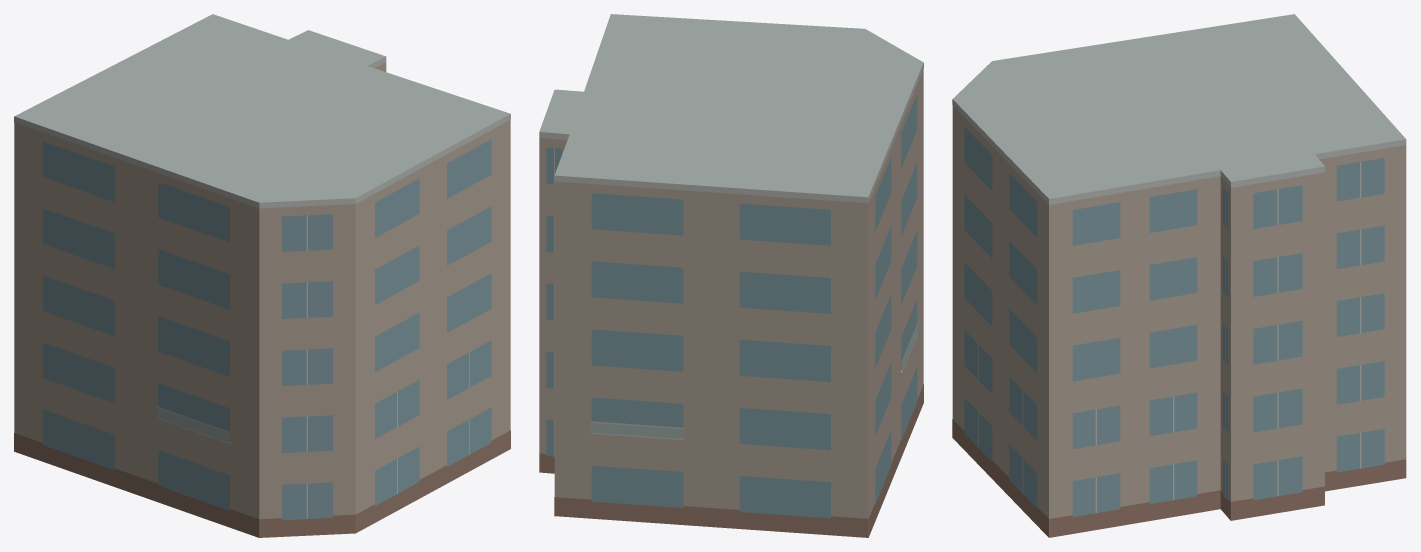
File: survey-upis-32848827.glb
3 views of the same model, side by side, from view 1: azimuth 30°, elevation 25°; view 2: azimuth 150°, elevation 25°; view 3: azimuth 270°, elevation 25° (orthographic).
Parts seen in each view (by area): view 1: survey-upis-32848827.tmp; view 2: survey-upis-32848827.tmp; view 3: survey-upis-32848827.tmp.
Part boxes in pixels (<box>): survey-upis-32848827.tmp: <box>14,14,510,537</box>; survey-upis-32848827.tmp: <box>539,14,923,537</box>; survey-upis-32848827.tmp: <box>952,14,1406,537</box>.
Bounding box in the file's own units: 16.46 × 14.05 × 17.06.
